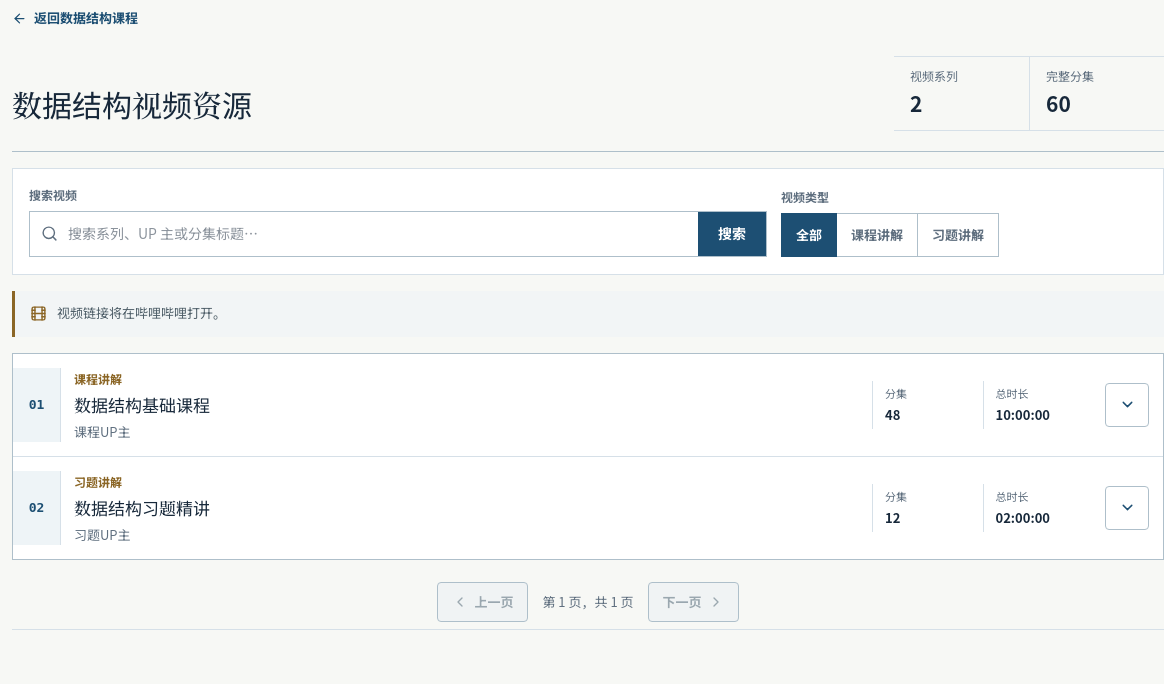
Test: CourseVideoLibraryPage › retries the failed episode page without resetting to page one
Expected: the heading "数据结构视频资源" is shown, x1=12 y1=82 x2=252 y2=126
Click the button named "展开分集：数据结构基础课程". click: (1127, 404)
box: x1=1105 y1=382 x2=1149 y2=426
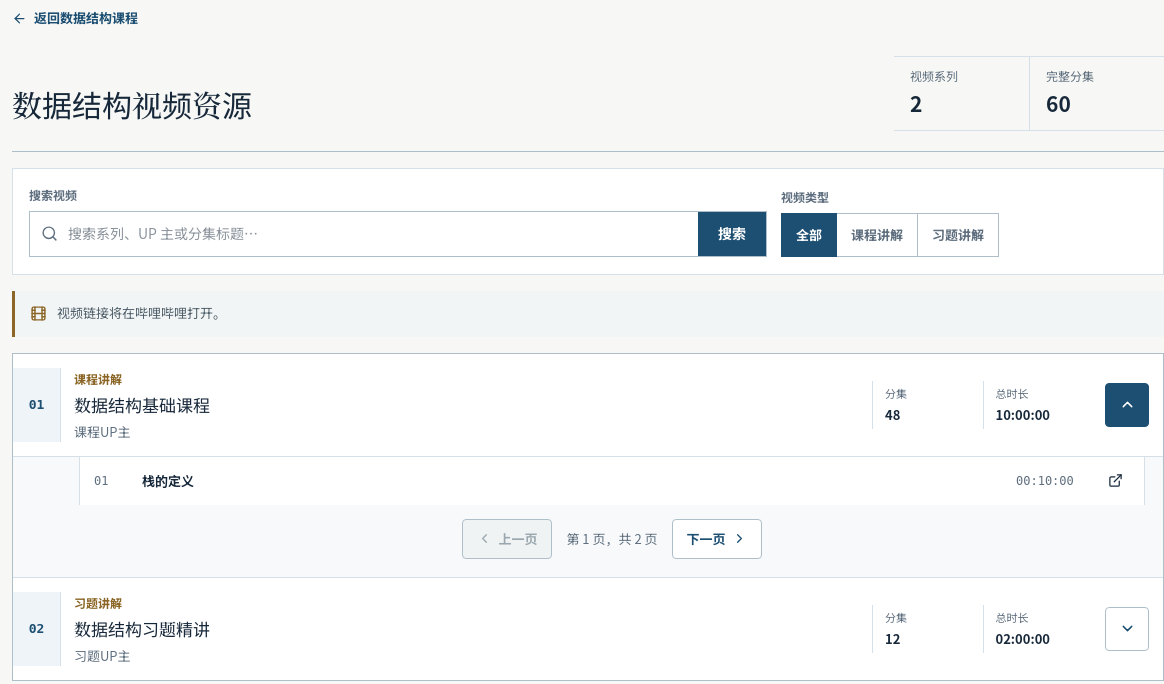
Expected: the link with aria-label "观看第 1 集：栈的定义" is shown, x1=94 y1=471 x2=1123 y2=490
Click the button "下一页" below "00:10:00". click: (716, 538)
box: x1=672 y1=518 x2=762 y2=558
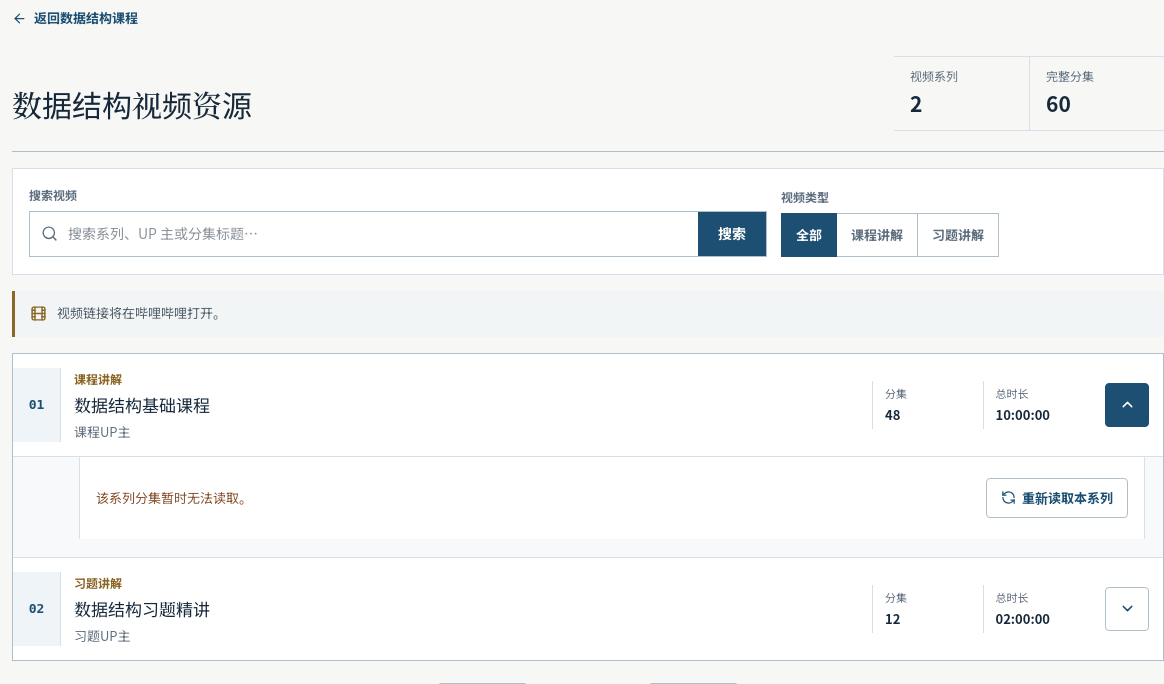
Expected: the message "该系列分集暂时无法读取。" is shown, x1=96 y1=488 x2=252 y2=507
Click the button "重新读取本系列". click: (1057, 498)
box: x1=986 y1=478 x2=1128 y2=518
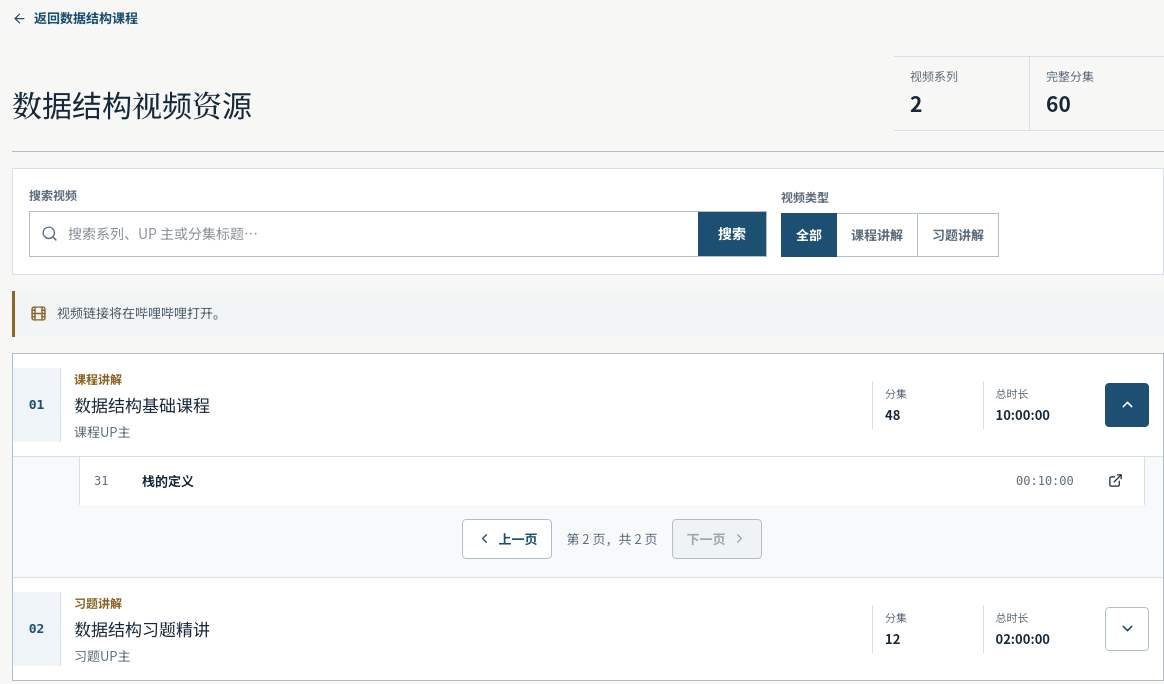
Expected: the link with aria-label "观看第 31 集：栈的定义" is shown, x1=94 y1=471 x2=1123 y2=490
